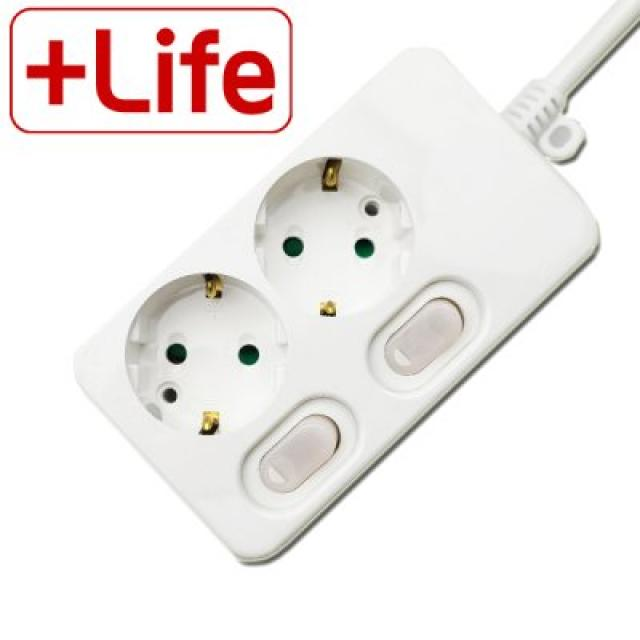typeb: (45, 40, 636, 605)
